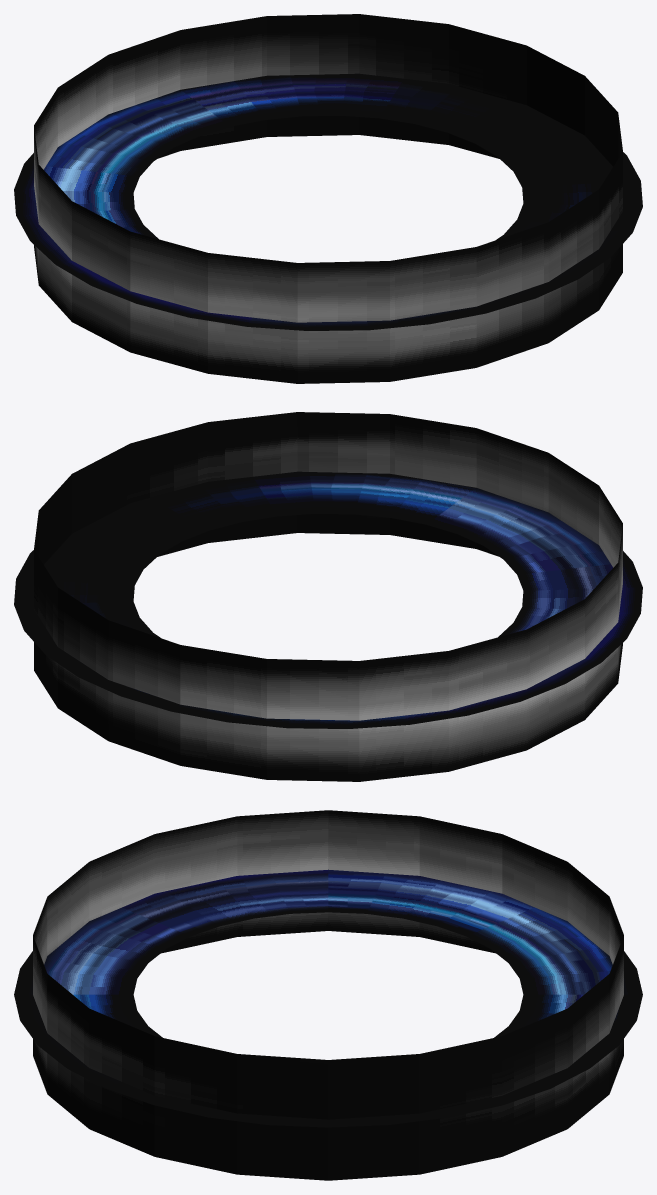
Rendered from tommycritical2.fbx.
3 renders of one model, top to bottom at view 1: azimuth 30°, elevation 25°; view 2: azimuth 150°, elevation 25°; view 3: azimuth 270°, elevation 25°, orthographic.
Visible parts, largest first — view 1: cylinder ring 10, ring 22, ring 23; view 2: cylinder ring 10, ring 22, ring 23; view 3: cylinder ring 10, ring 22, ring 23.
Part boxes in pixels (x1,y1,x2,y2): cylinder ring 10: [34, 14, 622, 383]; ring 22: [14, 73, 642, 330]; ring 23: [14, 74, 642, 330]; cylinder ring 10: [34, 412, 622, 781]; ring 22: [14, 471, 642, 728]; ring 23: [14, 471, 642, 728]; cylinder ring 10: [33, 810, 623, 1180]; ring 22: [14, 869, 640, 1127]; ring 23: [14, 870, 642, 1127].
Size of the model in its own units: 1.58 by 0.3357 by 1.58.
